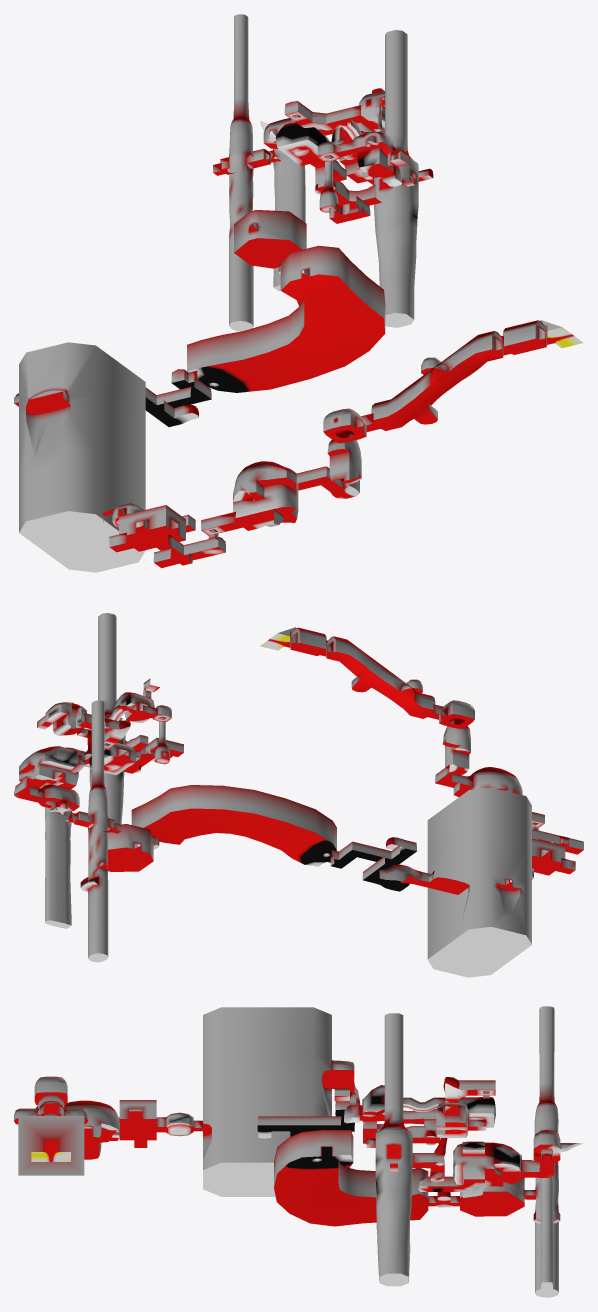
Rendered from level-7.glb.
3 renders of one model, top to bottom at view 1: azimuth 30°, elevation 25°; view 2: azimuth 150°, elevation 25°; view 3: azimuth 270°, elevation 25°, orthographic. The views are drawn at different scales.
Parts seen in each view (by area): view 1: level-7; view 2: level-7; view 3: level-7.
Boxes of the visible parts, bbox=[...] form: level-7: bbox=[14, 14, 583, 572]; level-7: bbox=[14, 613, 583, 977]; level-7: bbox=[14, 1006, 583, 1297].
Size of the model in its own units: 189 by 140 by 216.
